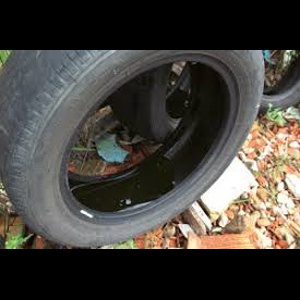tire: (1, 51, 265, 248)
